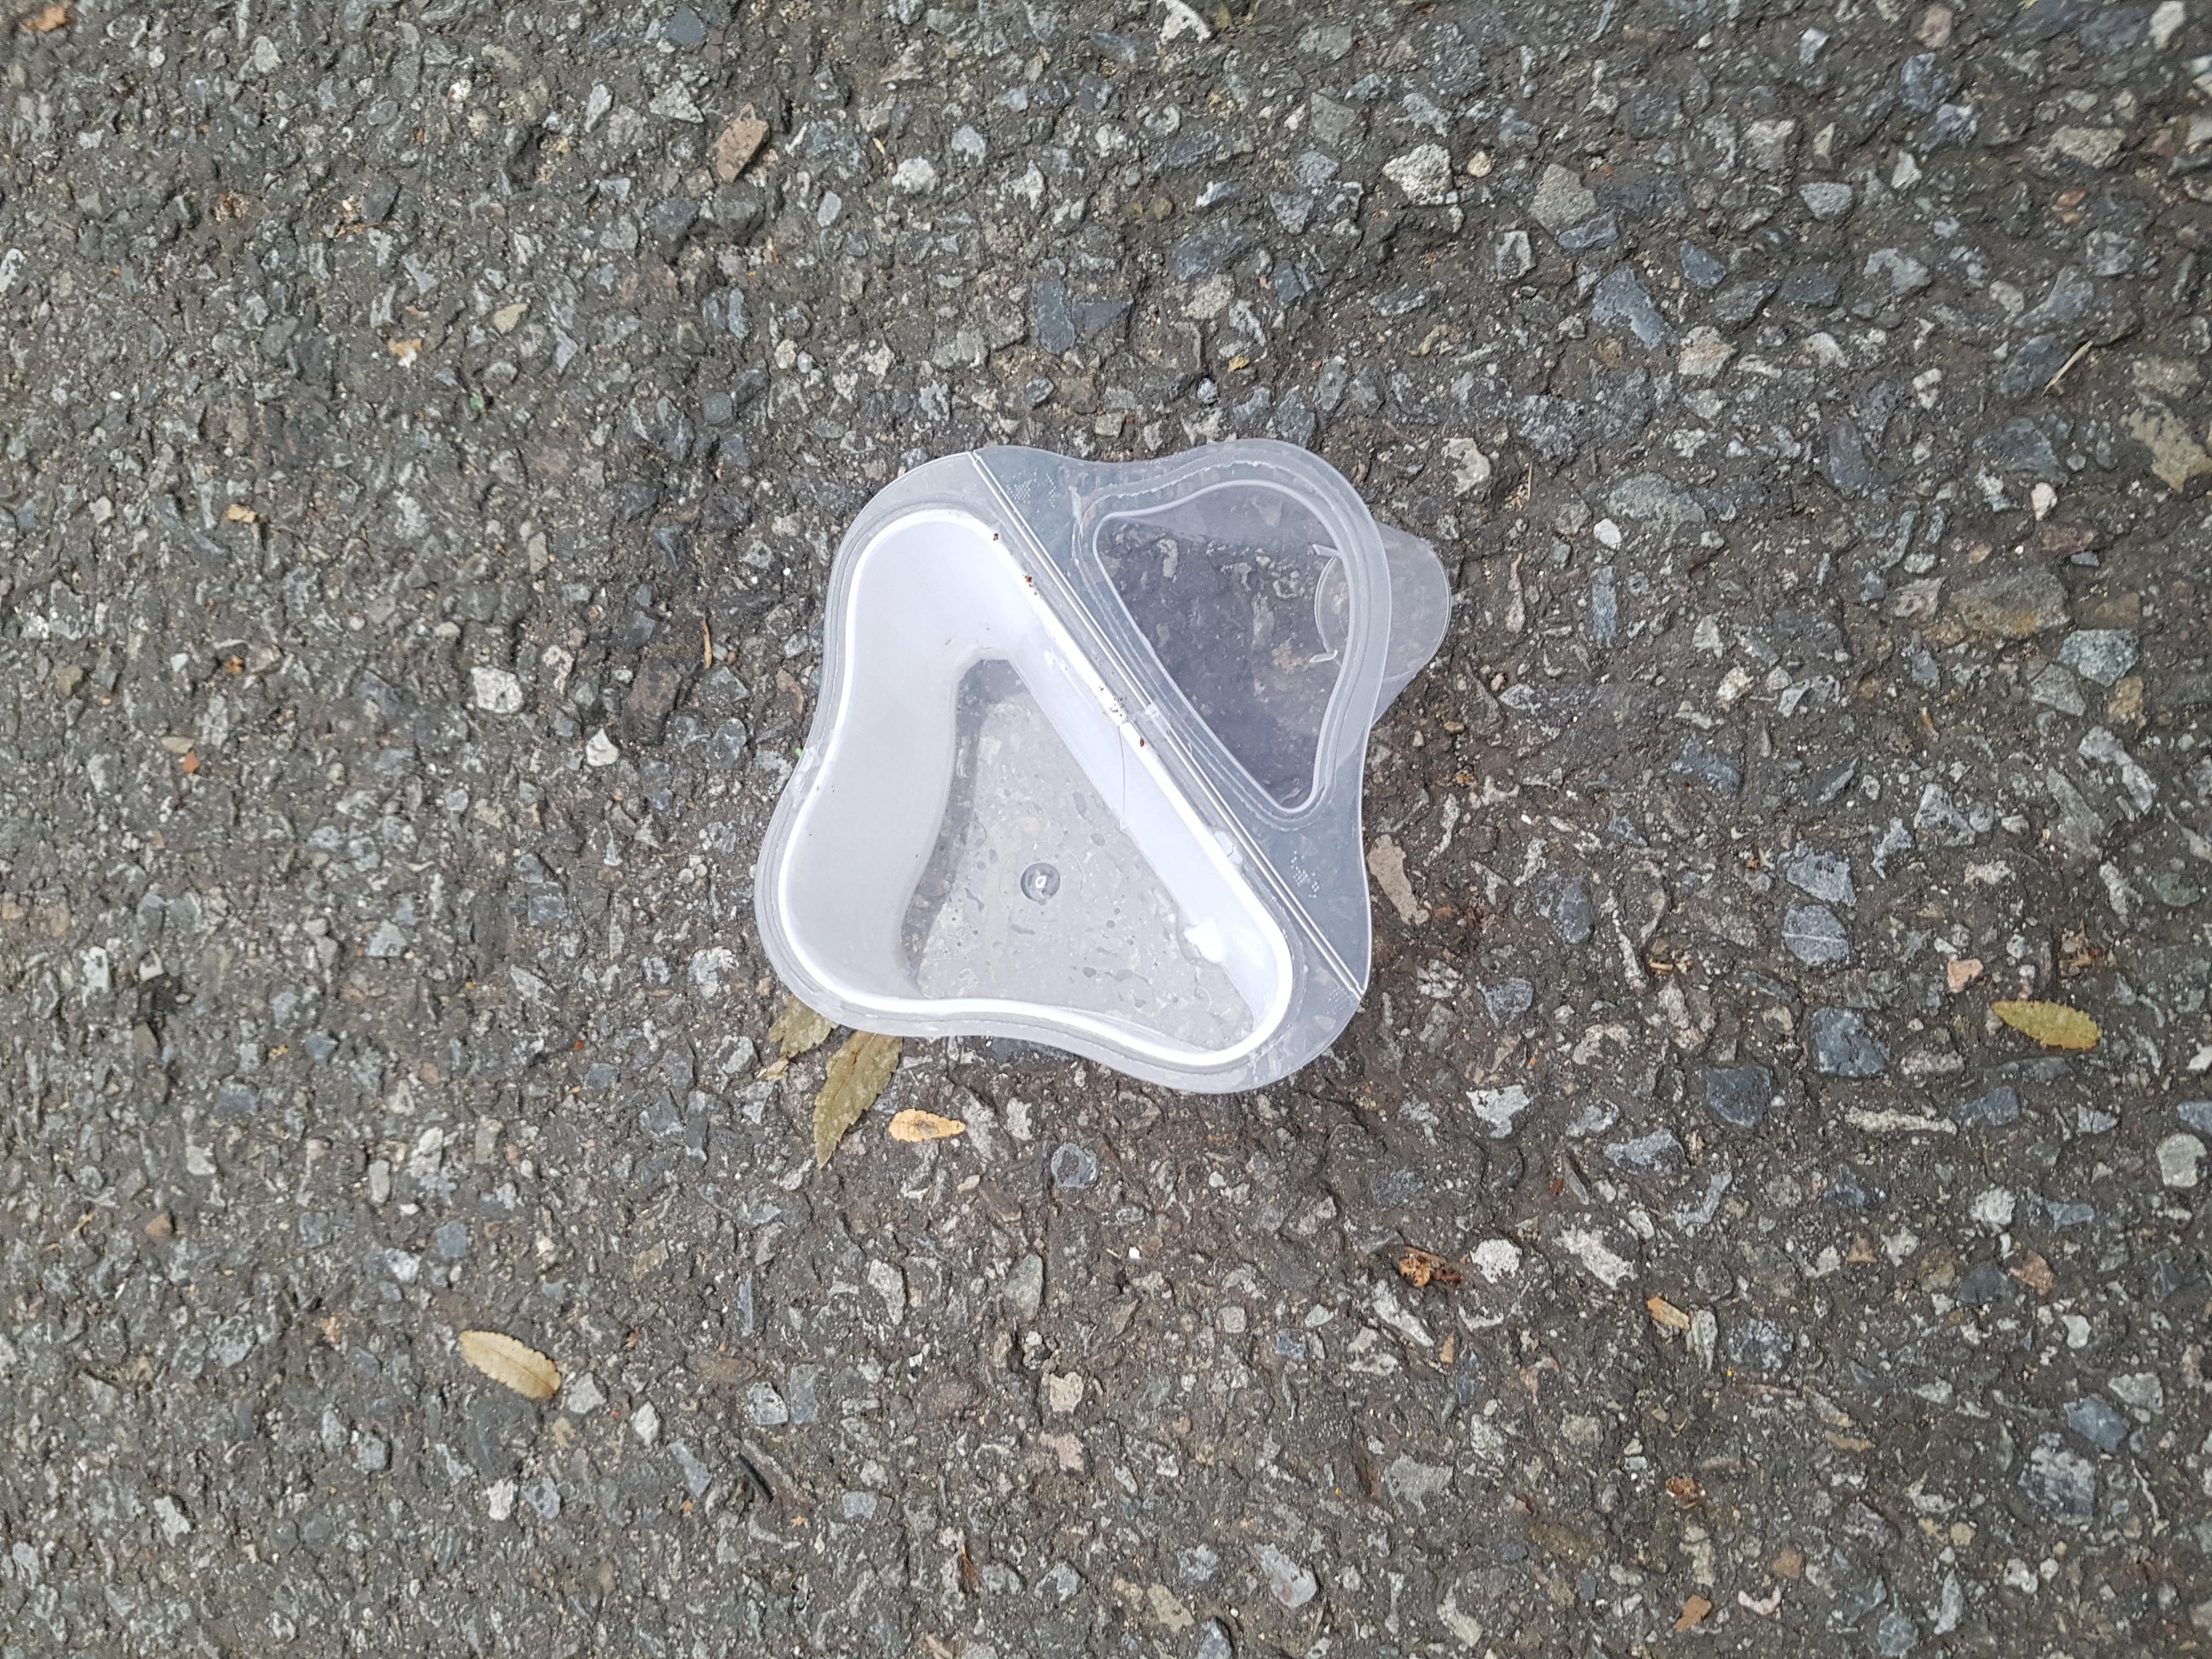bottle: (597, 509, 1778, 1119)
